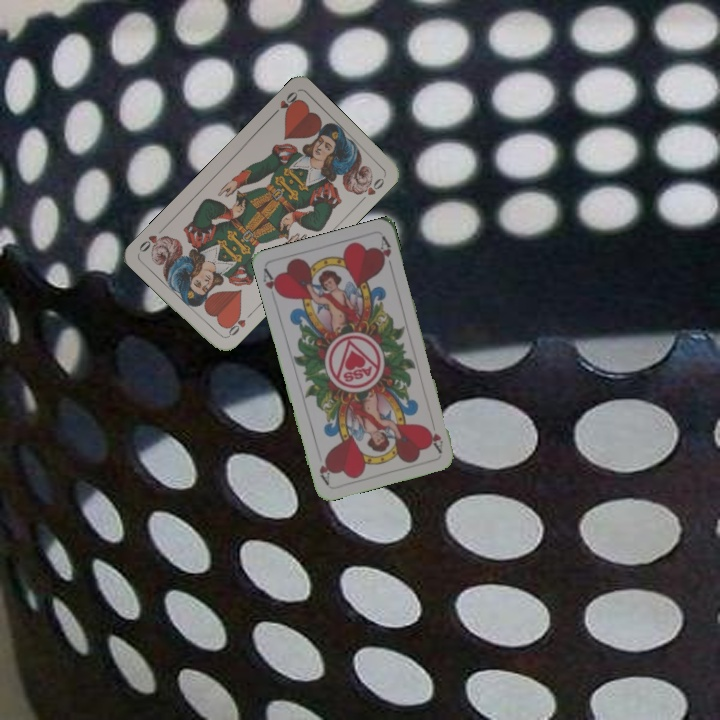HA: (259, 264, 284, 300), (425, 414, 445, 455)
HO: (267, 87, 302, 120), (222, 308, 255, 341)
